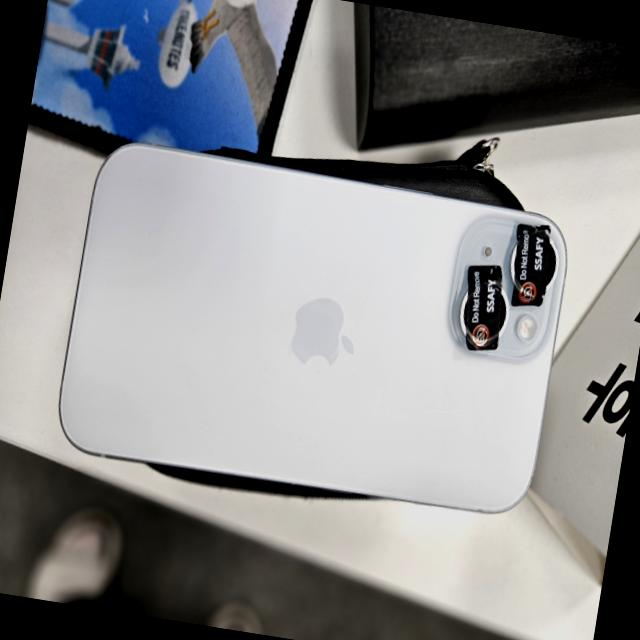phone: (49, 131, 576, 524)
sticker: (453, 256, 511, 352), (502, 216, 556, 311)
